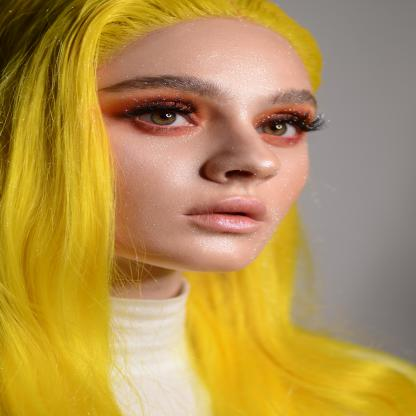Eye: (115, 100, 205, 136), (252, 112, 314, 147)
Mouth: (179, 195, 270, 234)
Nose: (200, 116, 281, 184)
